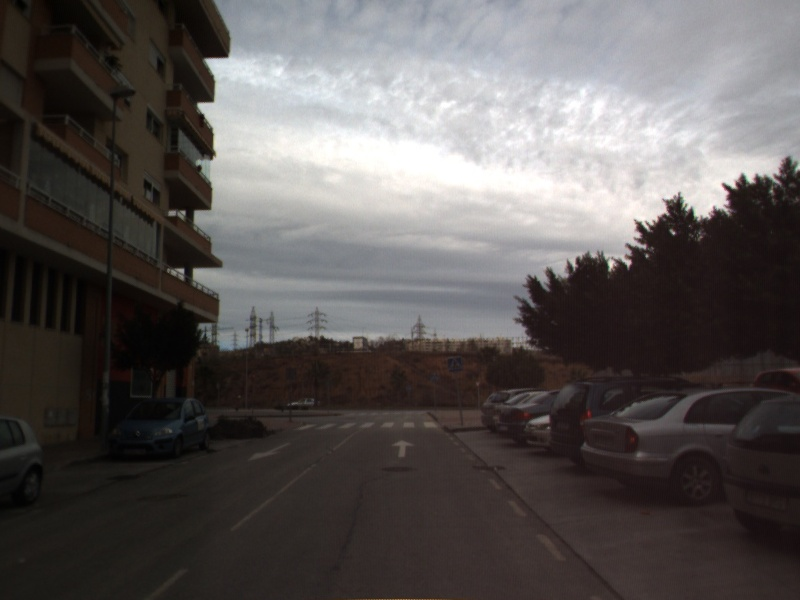STRAIGHT: (390, 438, 417, 459)
